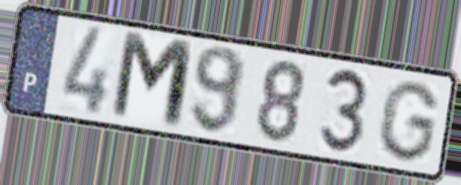3: (314, 65, 373, 158)
4: (59, 24, 113, 120)
8: (254, 57, 307, 146)
9: (189, 43, 248, 140)
G: (374, 78, 442, 165)
M: (107, 28, 198, 135)
